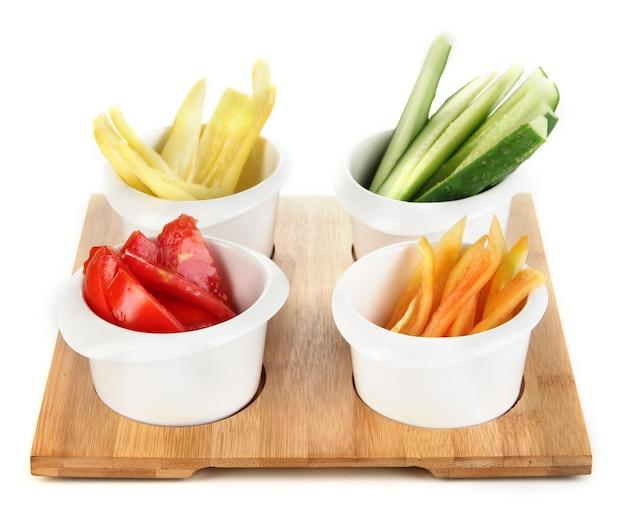carrot: (345, 226, 559, 374)
cucumber: (349, 51, 611, 211)
